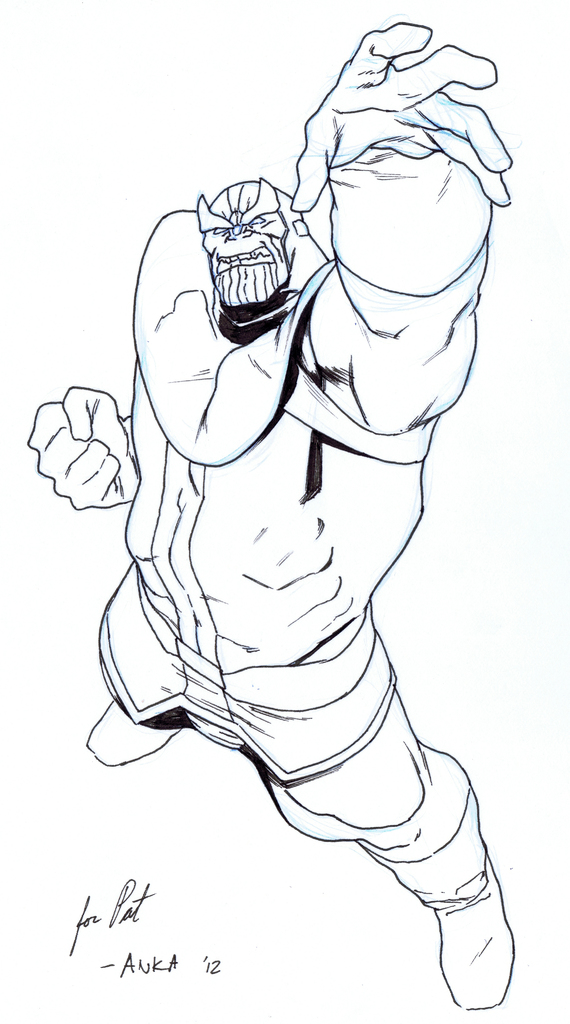Footwear: (372, 753, 517, 1011), (77, 698, 187, 767)
